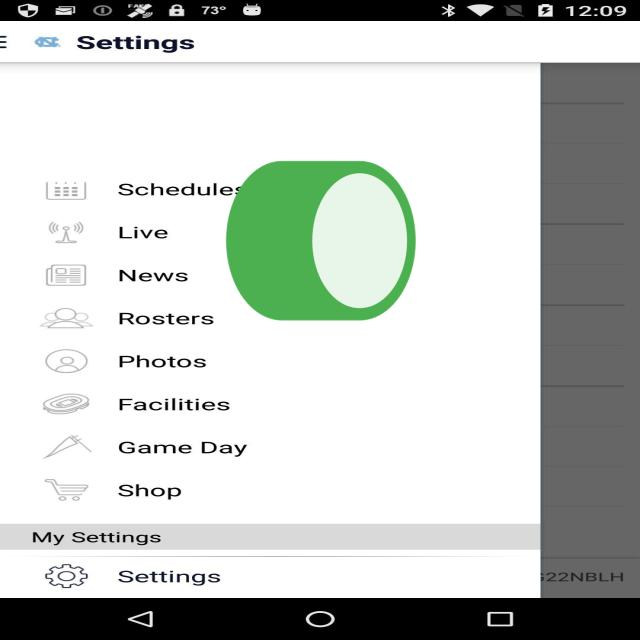social proof: (218, 100, 424, 394)
